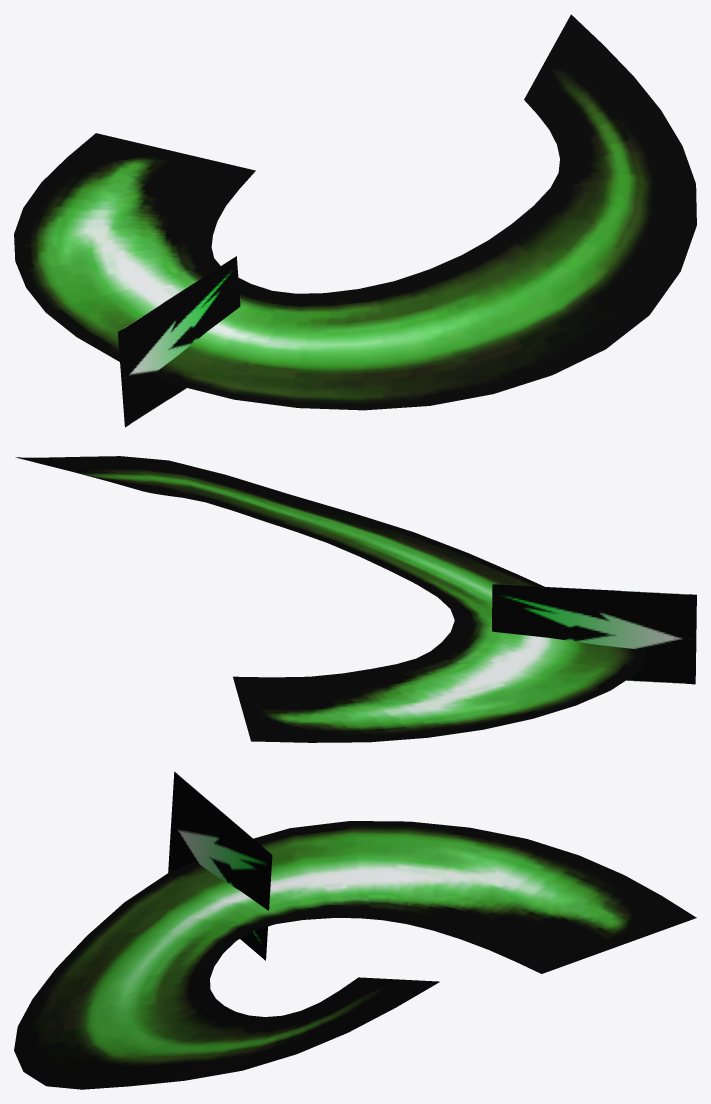
File: effect_huangyueying_1.FBX
3 views of the same model, one above another, from view 1: azimuth 30°, elevation 25°; view 2: azimuth 150°, elevation 25°; view 3: azimuth 270°, elevation 25° (orthographic). The views are drawn at different scales.
Parts seen in each view (by area): view 1: effect_huangyueying_2, effect_huangyueying_1; view 2: effect_huangyueying_2, effect_huangyueying_1; view 3: effect_huangyueying_2, effect_huangyueying_1.
Boxes of the visible parts, left/top/right/bottom form: effect_huangyueying_2: left=14, top=14, right=696, bottom=410; effect_huangyueying_1: left=117, top=256, right=240, bottom=427; effect_huangyueying_2: left=15, top=456, right=646, bottom=742; effect_huangyueying_1: left=492, top=584, right=696, bottom=684; effect_huangyueying_2: left=14, top=821, right=696, bottom=1089; effect_huangyueying_1: left=168, top=771, right=272, bottom=960.
Bounding box in the file's own units: 310 × 90.6 × 279.
Materials: 2 (2 with a texture image).
